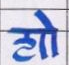e_matra: (34, 10, 58, 28)
